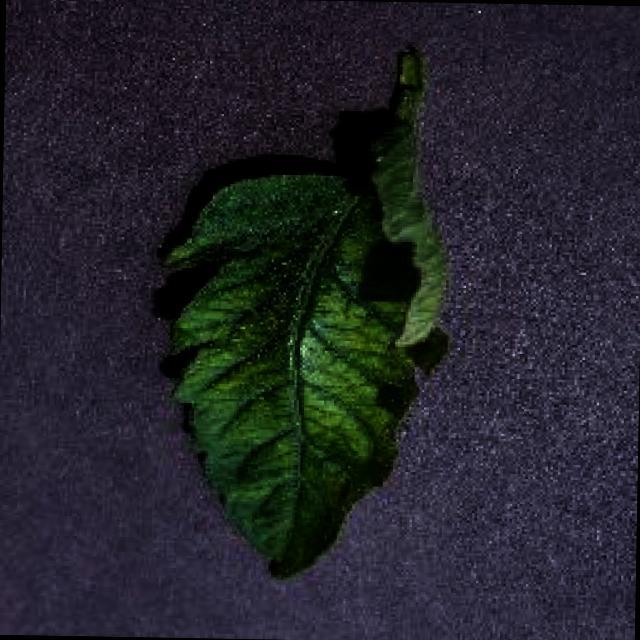Tomato mosaic virus leaf: (148, 165, 458, 586)
